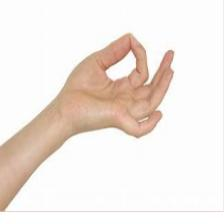five: (57, 29, 176, 140)
